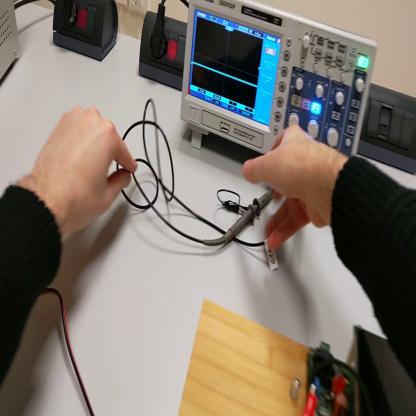hand: (34, 105, 137, 236), (243, 123, 338, 252)
low voltage board: (305, 340, 416, 414)
oscilloscope: (181, 1, 381, 159)
oscilloscope probe tip: (205, 193, 273, 250)
power supply: (2, 3, 21, 82)
socket: (52, 2, 121, 63), (138, 10, 188, 91)
working area: (176, 301, 309, 415)
